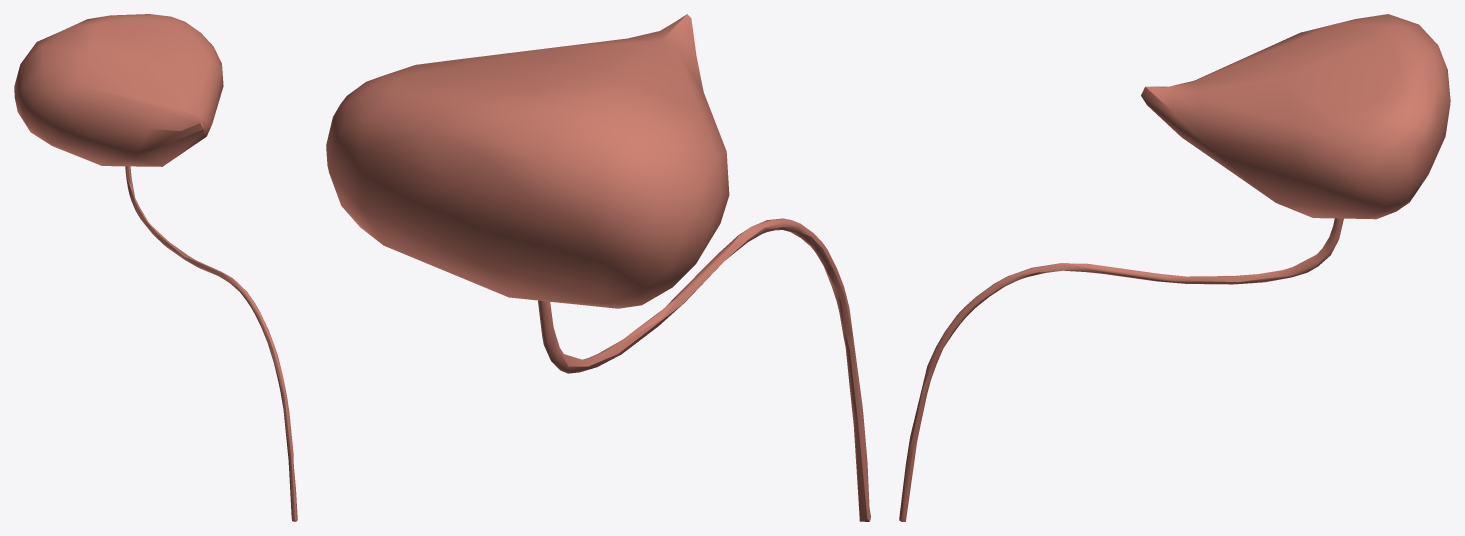
Rendered from urinary.pelvis.glb.
The picture shows the model from 3 angles, left to right: view 1: azimuth 30°, elevation 25°; view 2: azimuth 150°, elevation 25°; view 3: azimuth 270°, elevation 25°; orthographic projection. The views are drawn at different scales.
Parts seen in each view (by area): view 1: urinary_bladder, urethra; view 2: urinary_bladder, urethra; view 3: urinary_bladder, urethra.
Part boxes in pixels (<box>): urinary_bladder: <box>14,14,223,166</box>; urethra: <box>125,166,297,521</box>; urinary_bladder: <box>326,14,729,308</box>; urethra: <box>538,218,870,521</box>; urinary_bladder: <box>1141,14,1450,219</box>; urethra: <box>899,218,1343,521</box>.
Bounding box in the file's own units: 0.0668 × 0.1214 × 0.1276.
